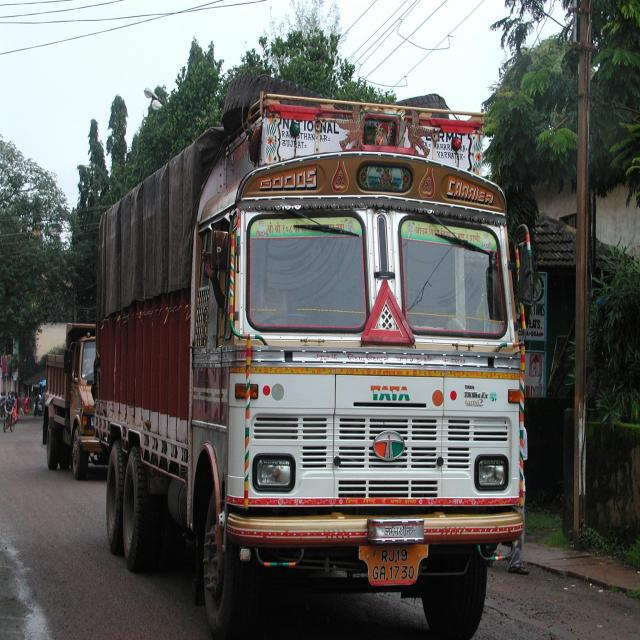normal_truck: (92, 93, 525, 638)
